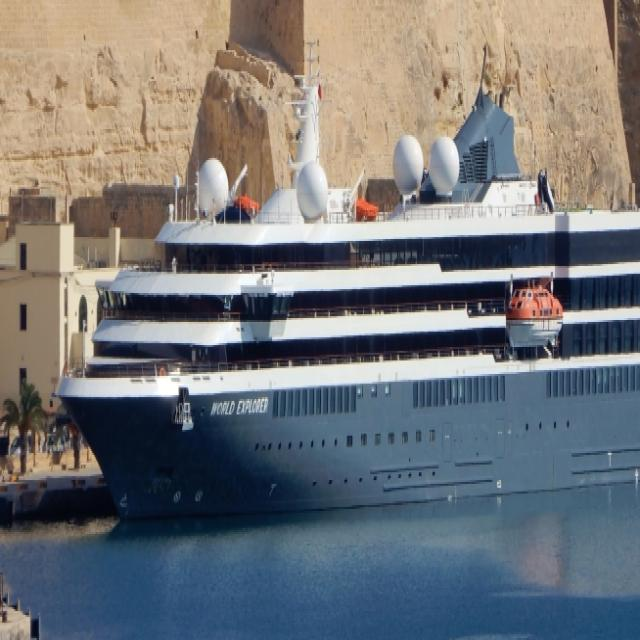cruises: (53, 76, 640, 531)
